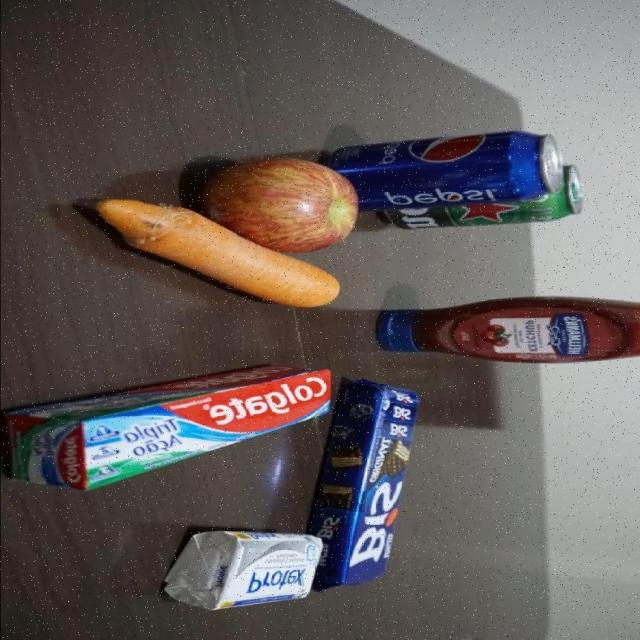Apple: (226, 157, 356, 250)
BeerCan: (390, 205, 584, 226)
Carrot: (99, 251, 340, 308)
Ketchup: (378, 297, 640, 361)
Soap: (163, 528, 319, 606)
SodaCan: (363, 131, 561, 200)
Toothpaste: (6, 362, 328, 490)
